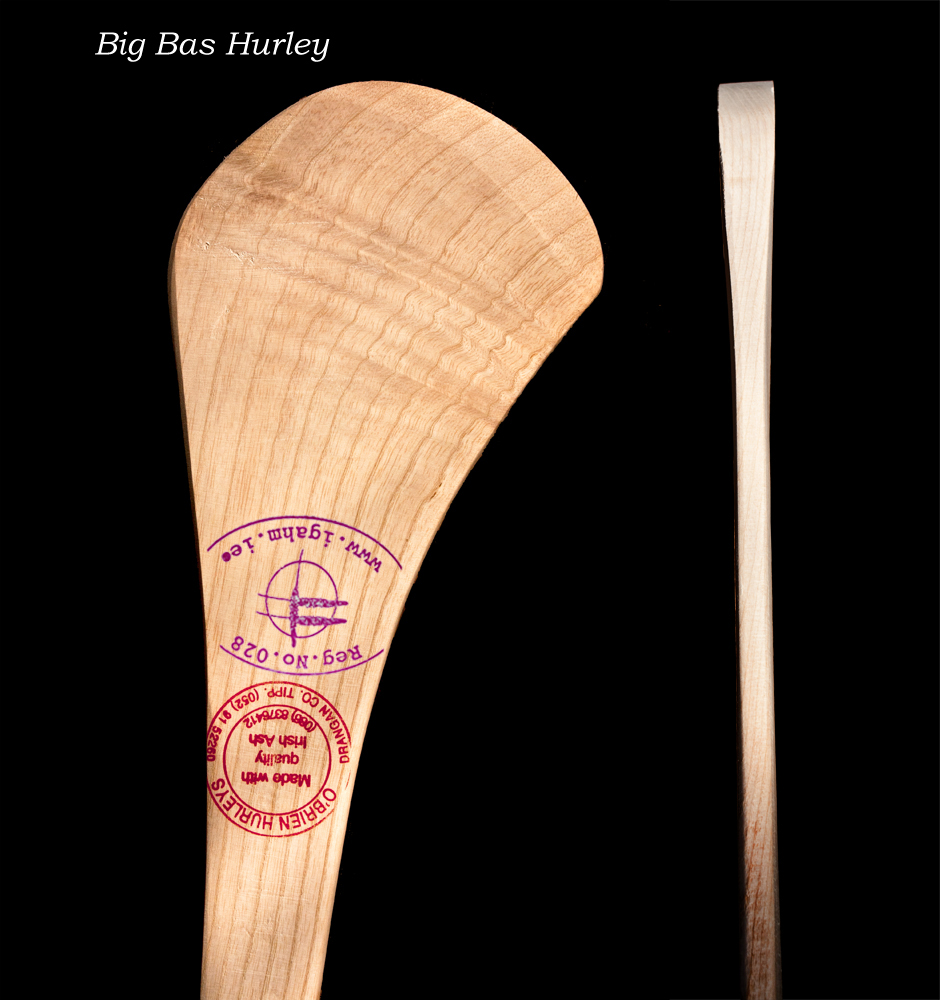hurley: (153, 73, 608, 1000), (714, 80, 796, 1000)
